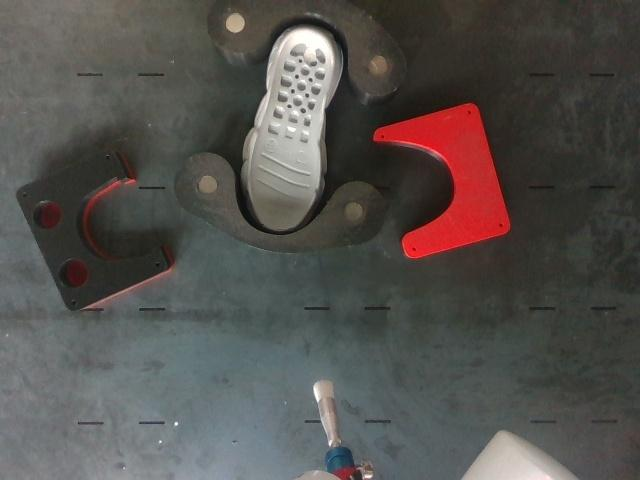shoes: (250, 30, 332, 230)
